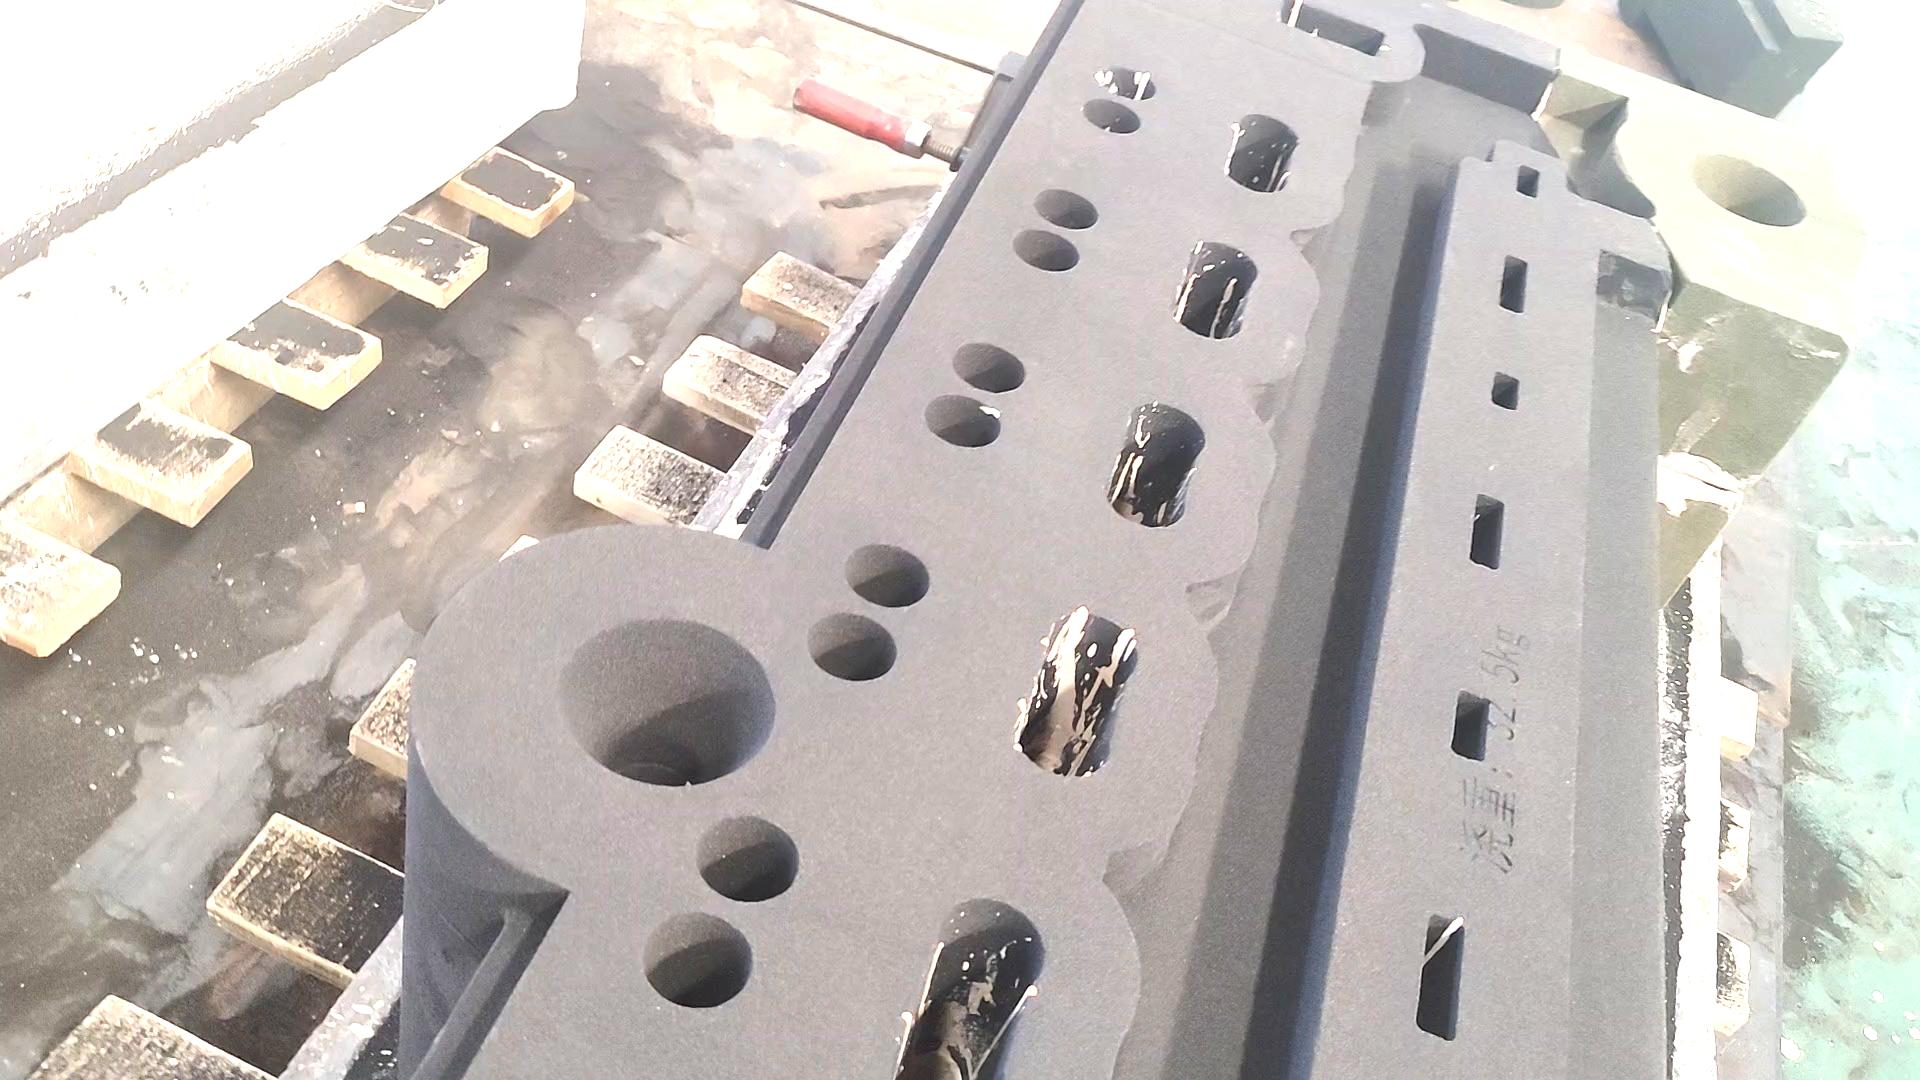pouring hole: (556, 618, 775, 787), (1689, 141, 1808, 229)
